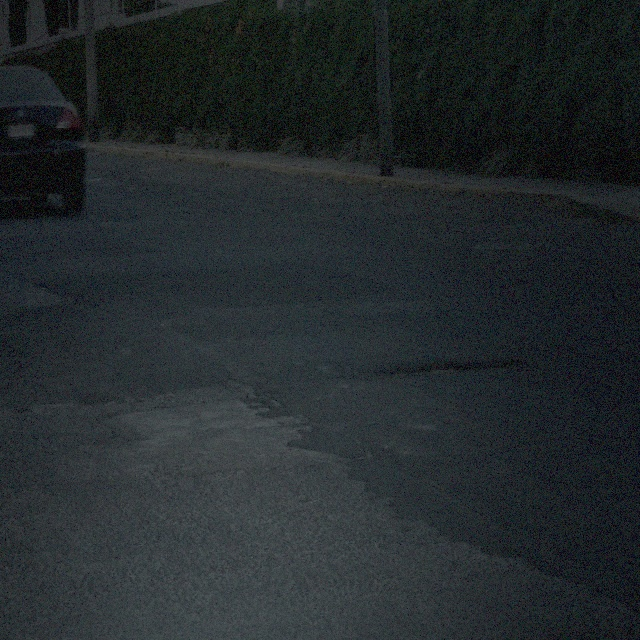pothole: (344, 352, 523, 390)
